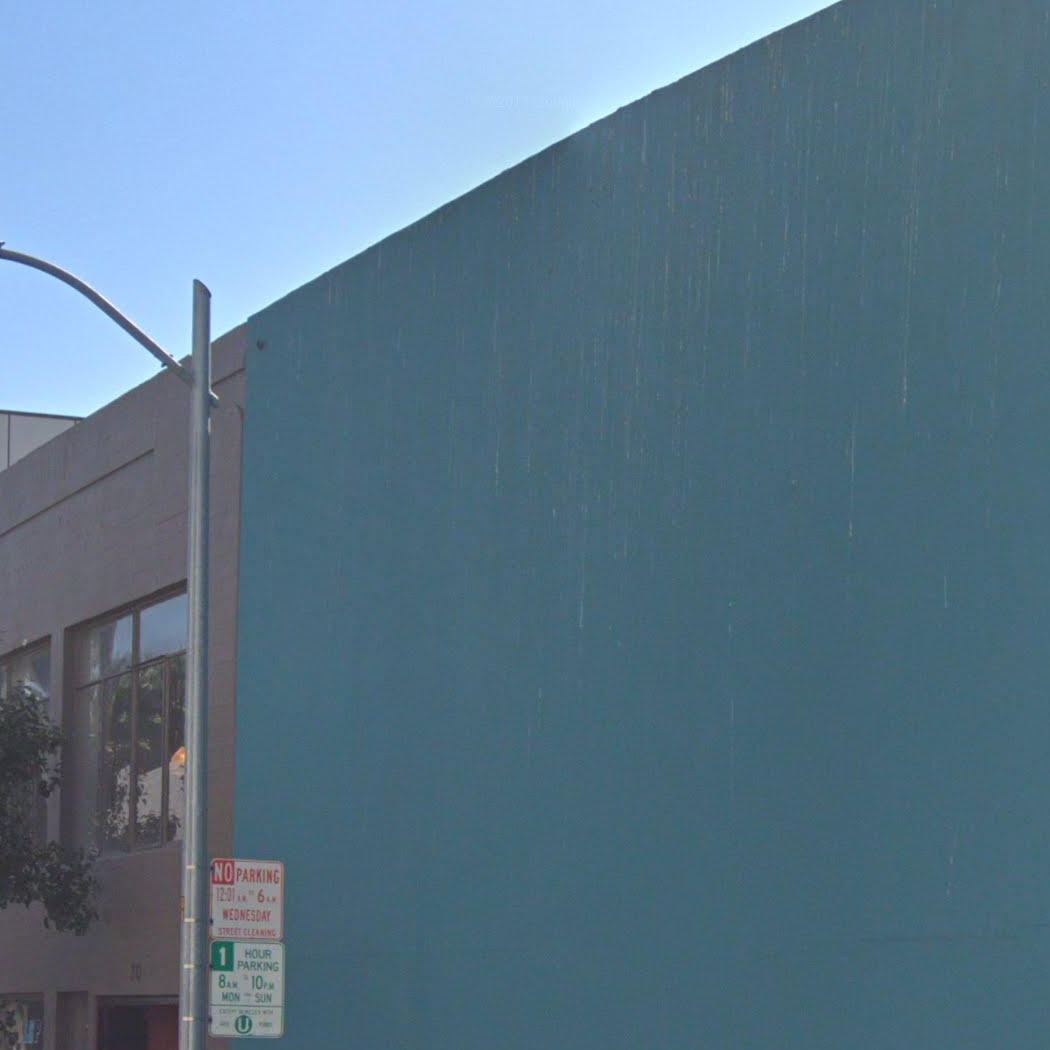1 Hour Parking: (207, 939, 285, 1041)
No Parking: (207, 856, 285, 944)
